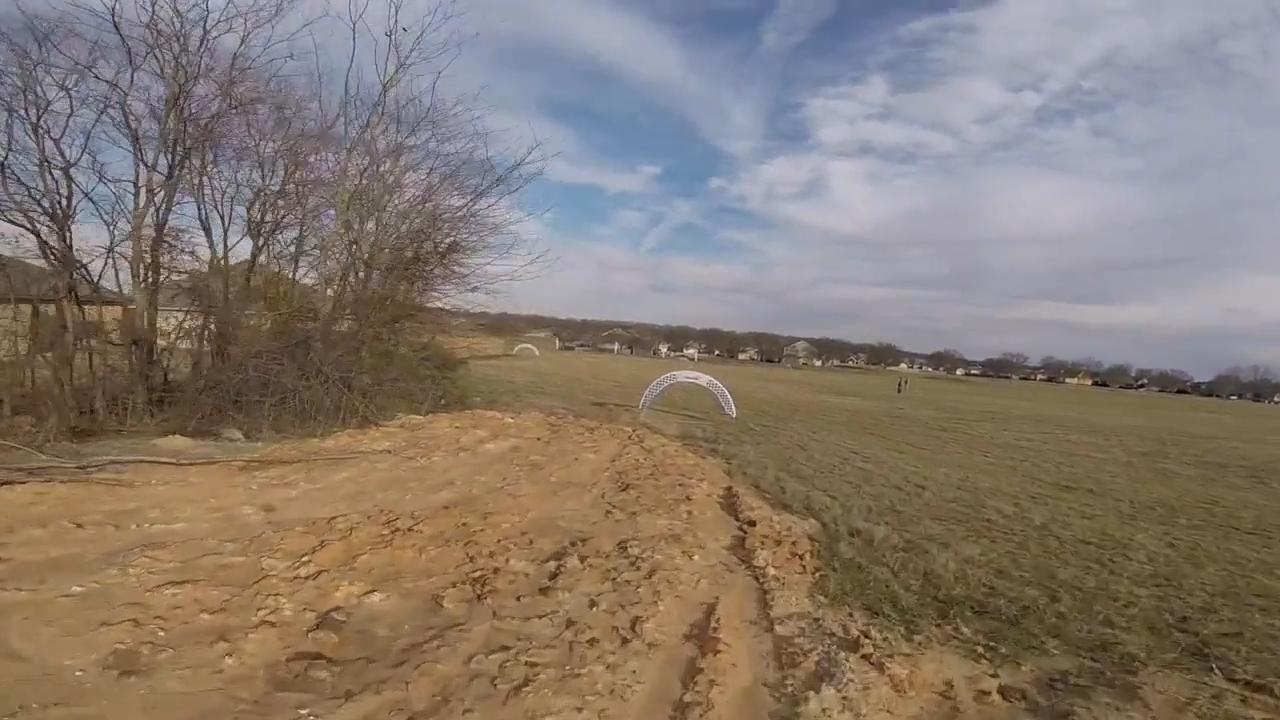gate: (639, 370, 739, 422)
